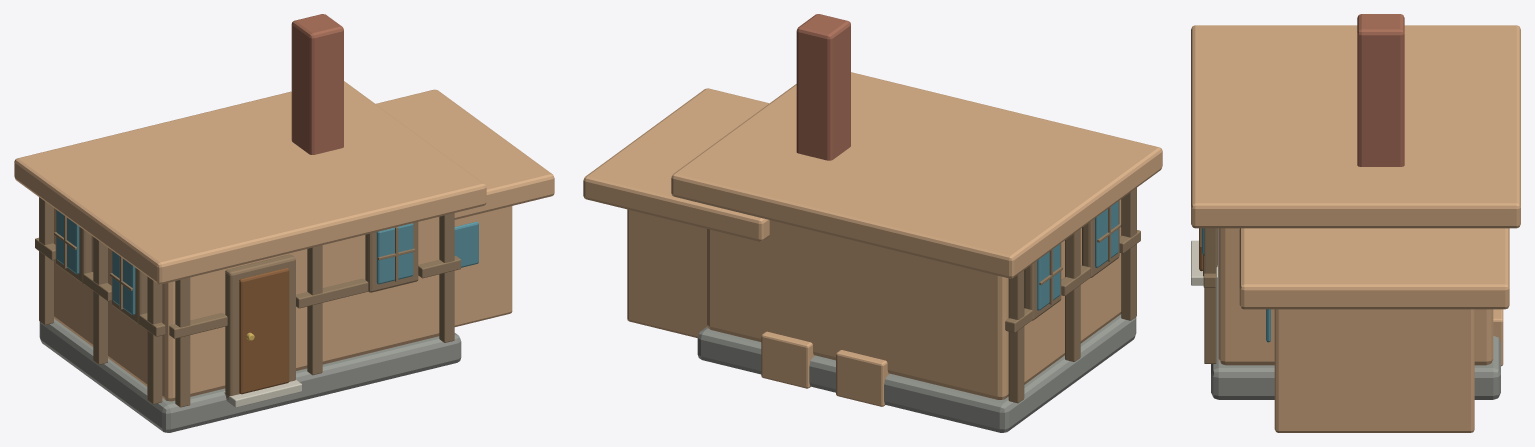
File: arid-cottage-4.glb
3 renders of one model, left to right at view 1: azimuth 30°, elevation 25°; view 2: azimuth 150°, elevation 25°; view 3: azimuth 270°, elevation 25°, orthographic. The views are drawn at different scales.
Visible parts, largest first — view 1: Adobe cream, Adobe plaster, Palm beams, Foundation stone, Chimney brick, Door oak, Adobe fieldstone, Blue glass, Cut limestone; view 2: Adobe cream, Adobe plaster, Foundation stone, Adobe fieldstone, Palm beams, Chimney brick, Adobe wood, Blue glass; view 3: Adobe cream, Adobe fieldstone, Chimney brick, Adobe plaster, Foundation stone, Palm beams, Cut limestone, Adobe wood.
Boxes of the visible parts, x1=… form: Adobe cream: x1=14, y1=81, x2=554, y2=284; Adobe plaster: x1=54, y1=208, x2=439, y2=401; Palm beams: x1=35, y1=197, x2=460, y2=407; Foundation stone: x1=39, y1=319, x2=461, y2=432; Chimney brick: x1=291, y1=14, x2=343, y2=154; Door oak: x1=239, y1=268, x2=289, y2=394; Adobe fieldstone: x1=454, y1=206, x2=512, y2=326; Blue glass: x1=56, y1=210, x2=478, y2=315; Cut limestone: x1=224, y1=380, x2=301, y2=407; Adobe cream: x1=583, y1=72, x2=1162, y2=278; Adobe plaster: x1=707, y1=199, x2=1121, y2=399; Foundation stone: x1=697, y1=314, x2=1136, y2=432; Adobe fieldstone: x1=627, y1=209, x2=707, y2=337; Palm beams: x1=1005, y1=188, x2=1140, y2=403; Chimney brick: x1=796, y1=14, x2=850, y2=160; Adobe wood: x1=761, y1=331, x2=889, y2=406; Blue glass: x1=1037, y1=201, x2=1118, y2=310; Adobe cream: x1=1191, y1=25, x2=1520, y2=309; Adobe fieldstone: x1=1274, y1=309, x2=1474, y2=432; Chimney brick: x1=1357, y1=14, x2=1404, y2=166; Adobe plaster: x1=1218, y1=228, x2=1493, y2=365; Foundation stone: x1=1211, y1=228, x2=1500, y2=399; Palm beams: x1=1199, y1=228, x2=1217, y2=363; Cut limestone: x1=1191, y1=240, x2=1217, y2=285; Adobe wood: x1=1493, y1=309, x2=1503, y2=366.
Size of the model in its own units: 4.38 by 3.02 by 2.64.
